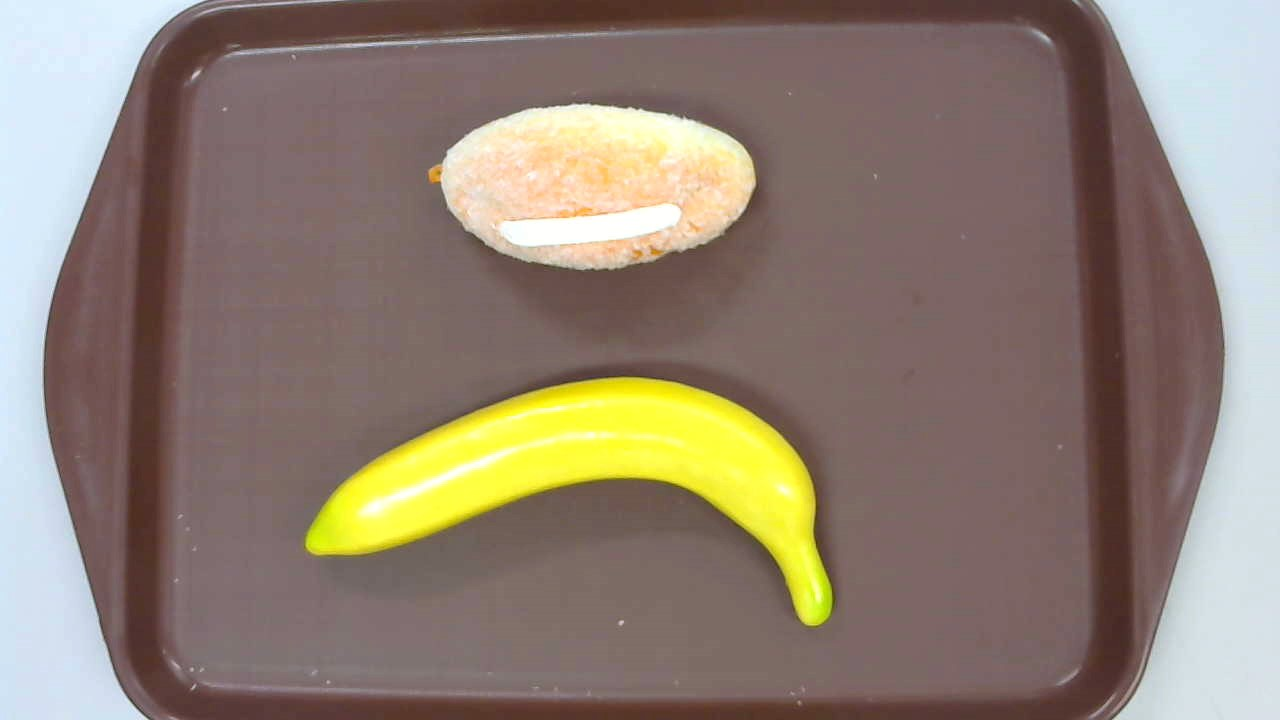banana: (304, 375, 833, 629)
coconut: (428, 102, 759, 273)
